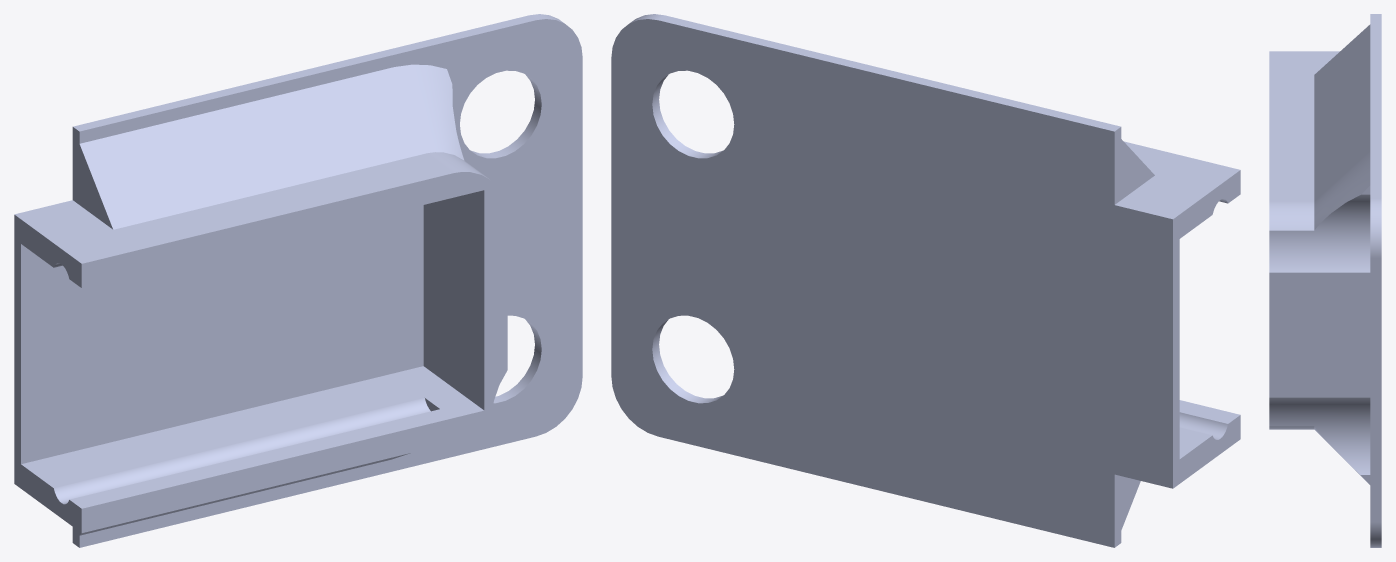
The model's file is elevadorHolder.glb.
The picture shows the model from 3 angles, left to right: view 1: azimuth 30°, elevation 25°; view 2: azimuth 150°, elevation 25°; view 3: azimuth 270°, elevation 25°; orthographic projection. The views are drawn at different scales.
Visible parts, largest first — view 1: elevadorHolder; view 2: elevadorHolder; view 3: elevadorHolder.
Part boxes in pixels (box(x1,y1,x2,y2)): elevadorHolder: box(14, 14, 582, 547); elevadorHolder: box(611, 14, 1240, 547); elevadorHolder: box(1269, 14, 1381, 547).
Bounding box in the file's own units: 0.048 × 0.034 × 0.01.
